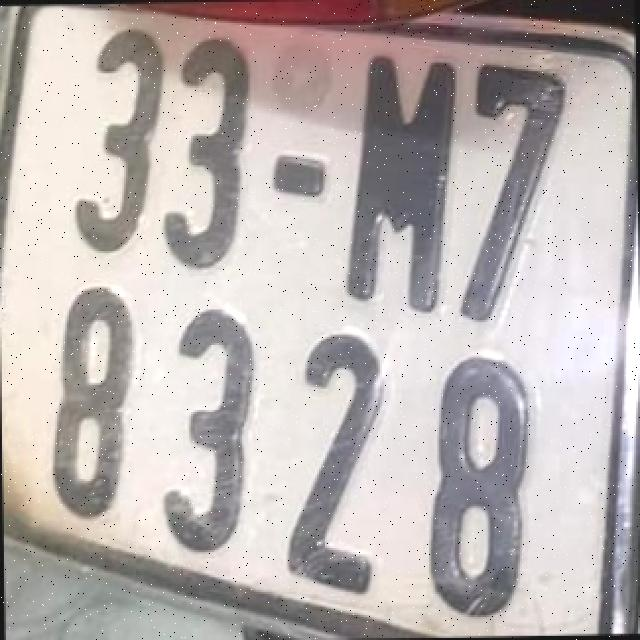2: (282, 324, 388, 598)
3: (158, 304, 258, 554), (68, 24, 162, 256), (162, 35, 254, 266)
7: (459, 58, 567, 325)
8: (420, 345, 536, 623), (47, 282, 138, 521)
M: (344, 46, 456, 312)
